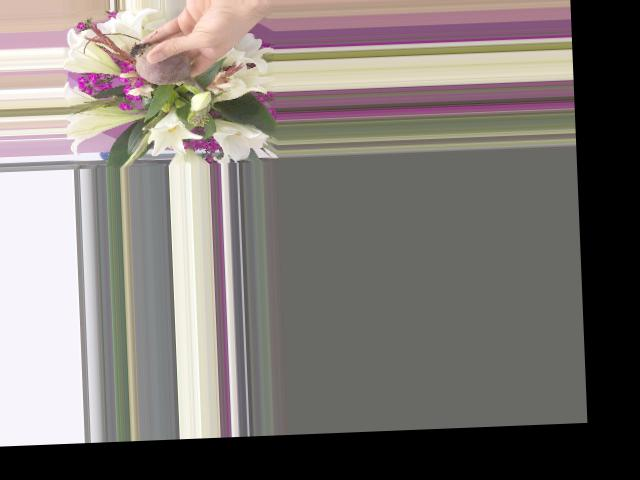beet: (129, 39, 206, 95)
